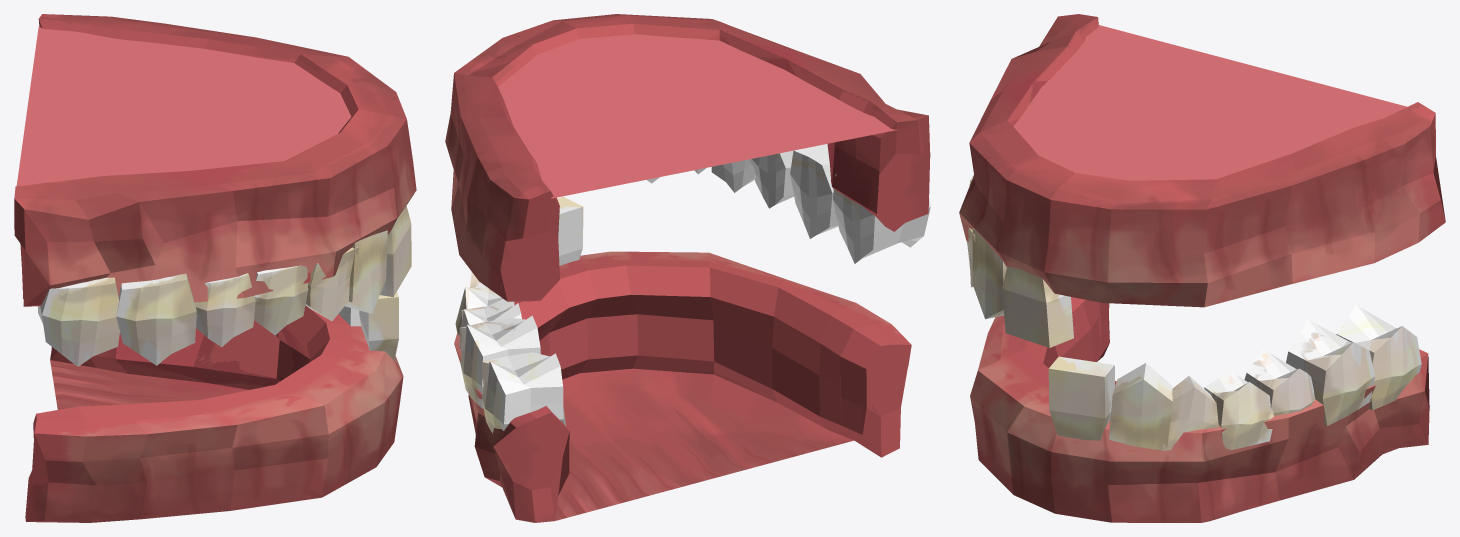
Rendered from teeth.glb.
The picture shows the model from 3 angles, left to right: view 1: azimuth 30°, elevation 25°; view 2: azimuth 150°, elevation 25°; view 3: azimuth 270°, elevation 25°; orthographic projection.
Visible parts, largest first — view 1: Torus.001, Torus.002, Torus.003, Cube, Cube.001; view 2: Torus.001, Torus.003, Torus.002, Cube.001, Cube; view 3: Torus.002, Torus.001, Torus.003, Cube.001, Cube.
Part boxes in pixels (left/top/right/bottom): Torus.001: left=25, top=305, right=403, bottom=522; Torus.002: left=14, top=14, right=416, bottom=306; Torus.003: left=16, top=26, right=351, bottom=185; Cube: left=38, top=205, right=411, bottom=366; Cube.001: left=338, top=292, right=398, bottom=360; Torus.001: left=454, top=251, right=911, bottom=522; Torus.003: left=498, top=34, right=896, bottom=198; Torus.002: left=445, top=14, right=930, bottom=301; Cube.001: left=455, top=196, right=583, bottom=433; Cube: left=646, top=144, right=930, bottom=263; Torus.002: left=959, top=14, right=1445, bottom=307; Torus.001: left=970, top=297, right=1429, bottom=522; Torus.003: left=1013, top=25, right=1407, bottom=180; Cube.001: left=1048, top=304, right=1421, bottom=451; Cube: left=966, top=174, right=1073, bottom=347.
Size of the model in its own units: 2.48 by 1.97 by 2.58.
3 materials, 2 textured.
